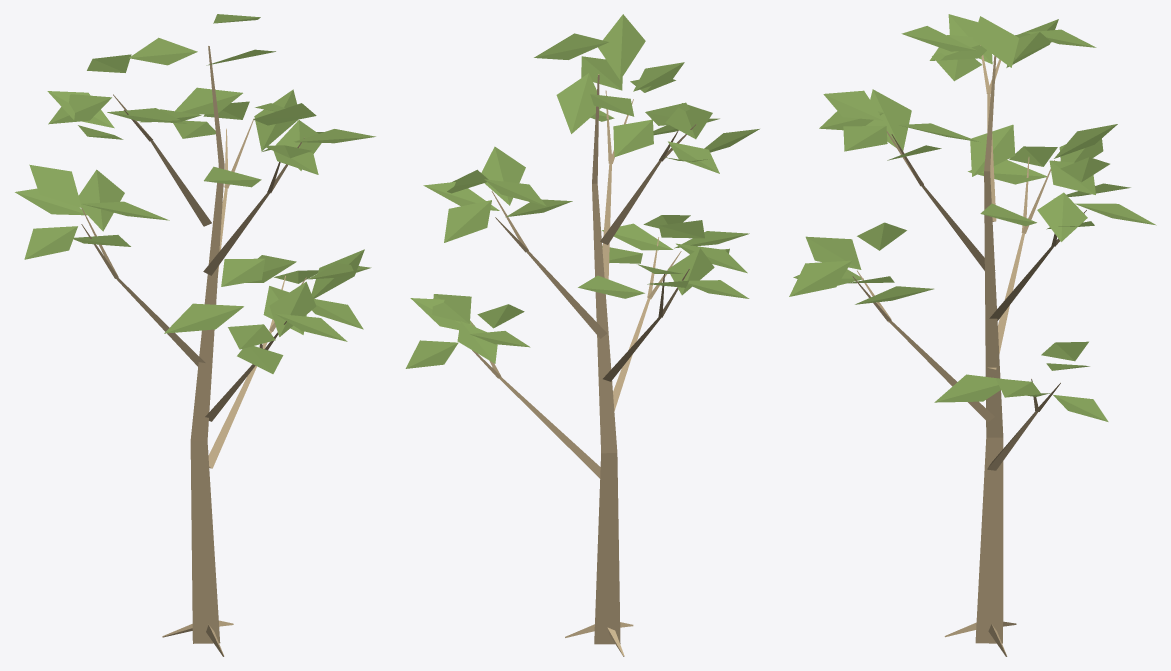
File: birch-lod2.glb
3 renders of one model, left to right at view 1: azimuth 30°, elevation 25°; view 2: azimuth 150°, elevation 25°; view 3: azimuth 270°, elevation 25°, orthographic. The views are drawn at different scales.
Visible parts, largest first — view 1: tree_birch_LOD2; view 2: tree_birch_LOD2; view 3: tree_birch_LOD2.
Part boxes in pixels (<box>): tree_birch_LOD2: <box>15,14,375,656</box>; tree_birch_LOD2: <box>405,14,759,656</box>; tree_birch_LOD2: <box>789,14,1156,656</box>.
Bounding box in the file's own units: 7.35 × 12.54 × 6.68.
